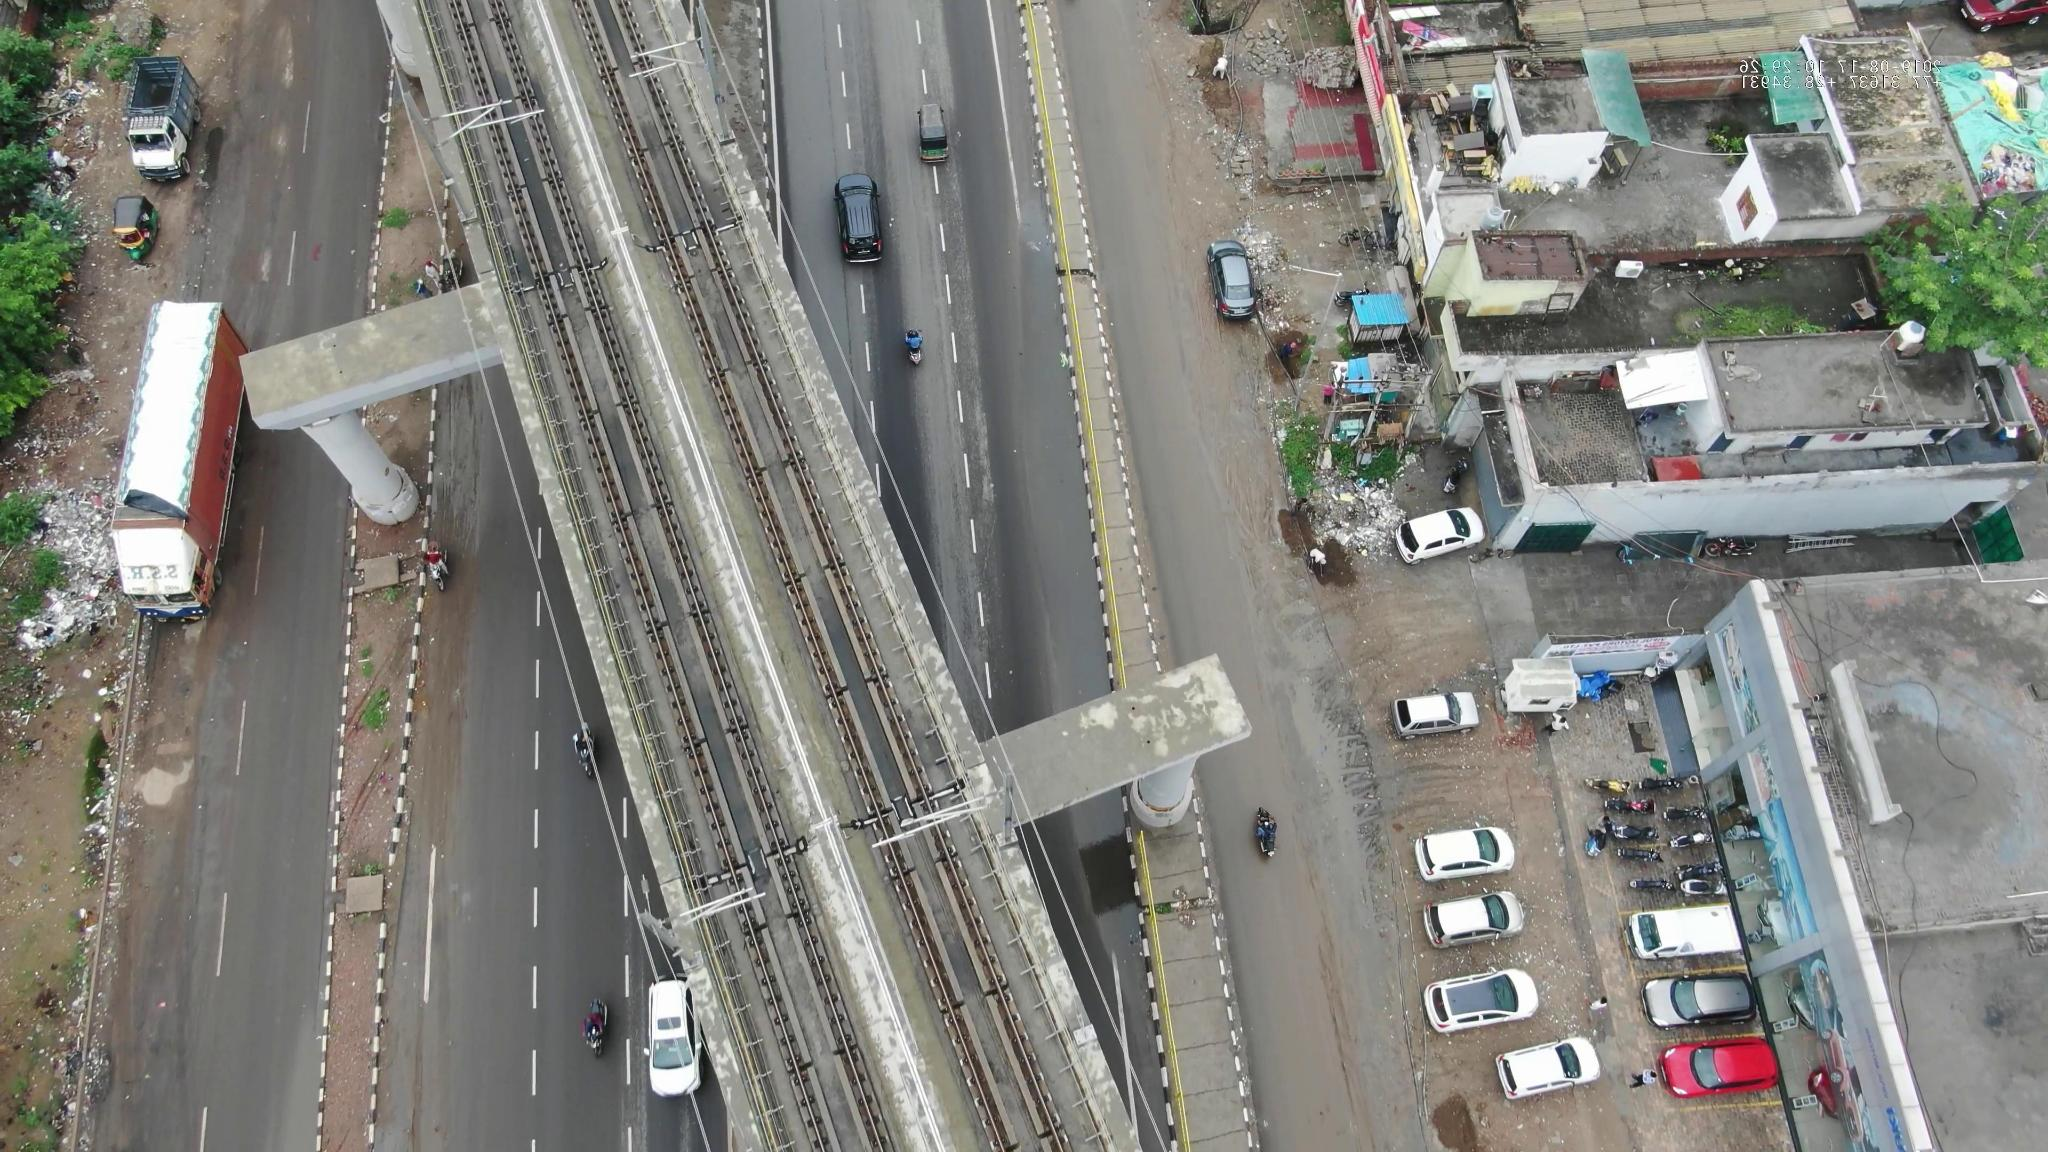Muddy_road: (1283, 678, 1391, 871), (128, 653, 208, 848), (416, 585, 477, 816), (430, 381, 491, 525)
Road_side_garbage: (11, 466, 127, 660)
